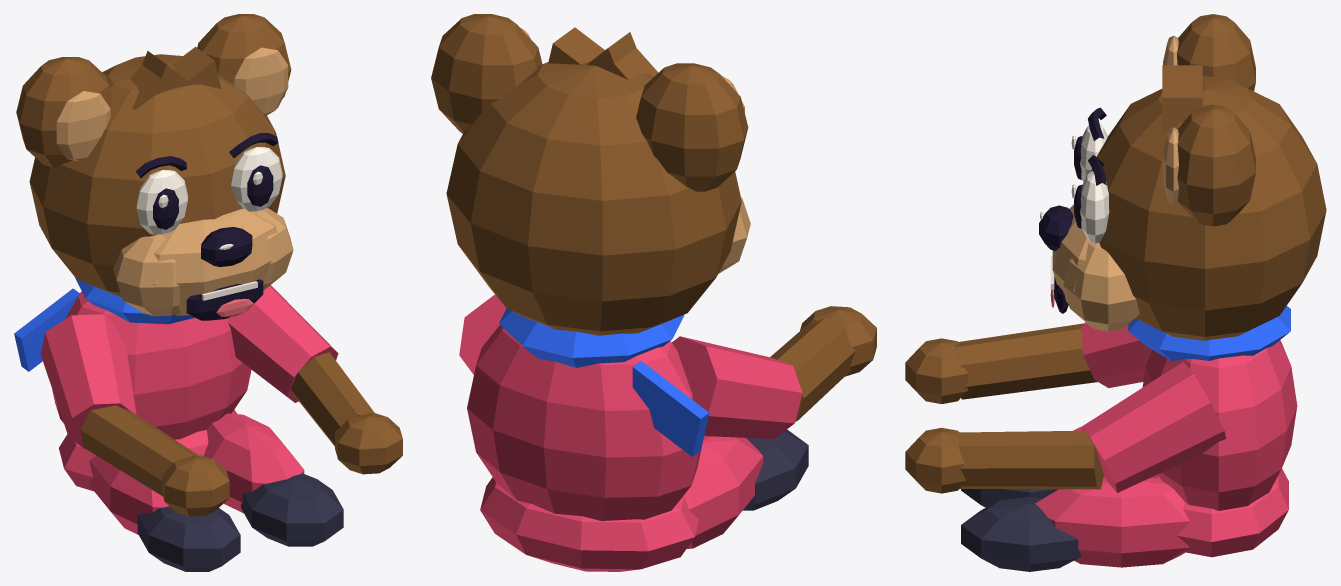
3 views of the same model, side by side, from view 1: azimuth 30°, elevation 25°; view 2: azimuth 150°, elevation 25°; view 3: azimuth 270°, elevation 25° (orthographic). The views are drawn at different scales.
Visible parts, largest first — view 1: surface_fur (×2), surface_shirt, surface_fur_secondary, surface_boot, surface_ink, surface_ivory, surface_scarf, hand_r, hand_l; view 2: surface_fur (×2), surface_shirt, surface_scarf, surface_boot, hand_r, surface_fur_secondary; view 3: surface_fur (×2), surface_shirt, surface_fur_secondary, surface_boot, surface_scarf, hand_r, hand_l, surface_ink, surface_ivory.
Part boxes in pixels (left/top/right/bottom): surface_fur (×2): left=16, top=14, right=374, bottom=496; surface_shirt: left=40, top=285, right=338, bottom=534; surface_fur_secondary: left=56, top=47, right=293, bottom=316; surface_boot: left=137, top=473, right=343, bottom=571; surface_ink: left=135, top=133, right=278, bottom=320; surface_ivory: left=136, top=147, right=282, bottom=300; surface_scarf: left=14, top=277, right=194, bottom=371; hand_r: left=161, top=455, right=229, bottom=516; hand_l: left=335, top=413, right=402, bottom=474; surface_fur (×2): left=431, top=14, right=855, bottom=421; surface_shirt: left=459, top=294, right=802, bottom=571; surface_scarf: left=499, top=308, right=709, bottom=456; surface_boot: left=743, top=429, right=808, bottom=510; hand_r: left=800, top=306, right=876, bottom=376; surface_fur_secondary: left=521, top=28, right=750, bottom=273; surface_fur (×2): left=955, top=14, right=1326, bottom=489; surface_shirt: left=1035, top=322, right=1297, bottom=567; surface_fur_secondary: left=1052, top=35, right=1178, bottom=331; surface_boot: left=961, top=489, right=1081, bottom=571; surface_scarf: left=1128, top=306, right=1290, bottom=360; hand_r: left=905, top=338, right=968, bottom=404; hand_l: left=905, top=427, right=966, bottom=493; surface_ink: left=1039, top=107, right=1106, bottom=313; surface_ivory: left=1040, top=123, right=1109, bottom=289.
Size of the model in its own units: 0.726 by 1.16 by 0.9358.
